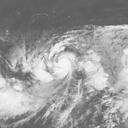cyclone: (26, 40, 90, 96)
